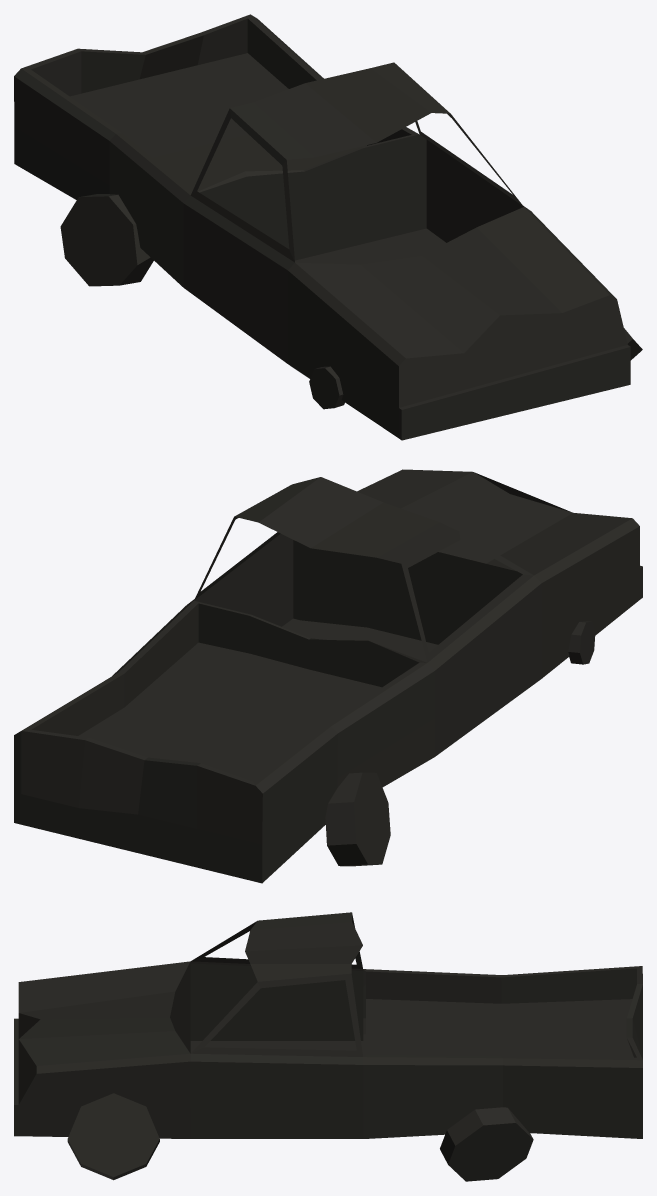
The model's file is Pickup_wreck.glb.
3 views of the same model, one above another, from view 1: azimuth 30°, elevation 25°; view 2: azimuth 150°, elevation 25°; view 3: azimuth 270°, elevation 25° (orthographic). The views are drawn at different scales.
Visible parts, largest first — view 1: Cylinder; view 2: Cylinder; view 3: Cylinder.
Part boxes in pixels (x1=…): Cylinder: x1=14, y1=14, x2=642, y2=440; Cylinder: x1=14, y1=469, x2=642, y2=883; Cylinder: x1=14, y1=912, x2=642, y2=1181.
Bounding box in the file's own units: 3.81 × 2.62 × 7.76.
2 materials, 2 textured.
